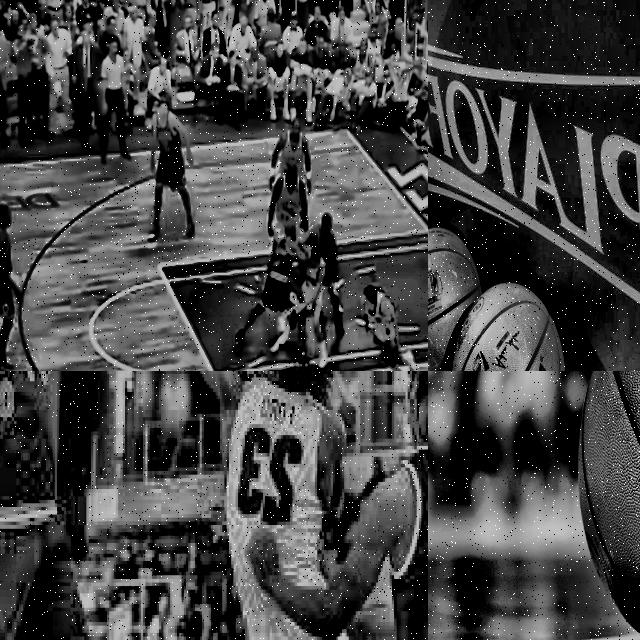Basketball: (428, 227, 564, 371), (578, 371, 640, 633), (386, 341, 396, 358)
